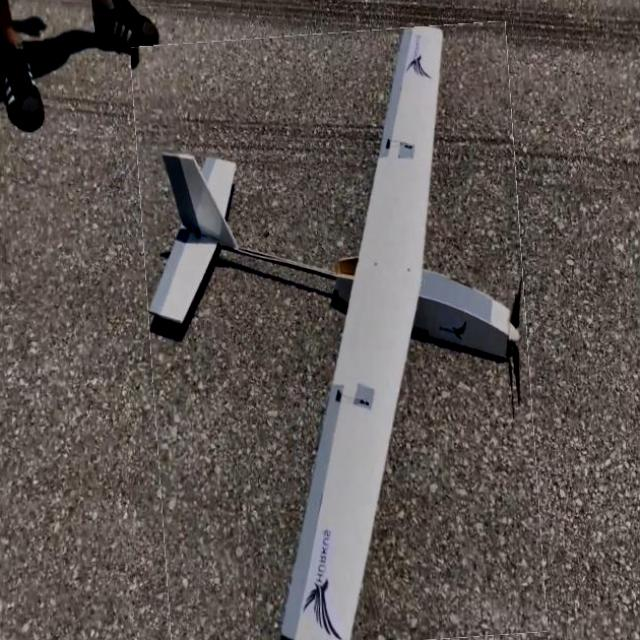plane: (130, 19, 547, 640)
